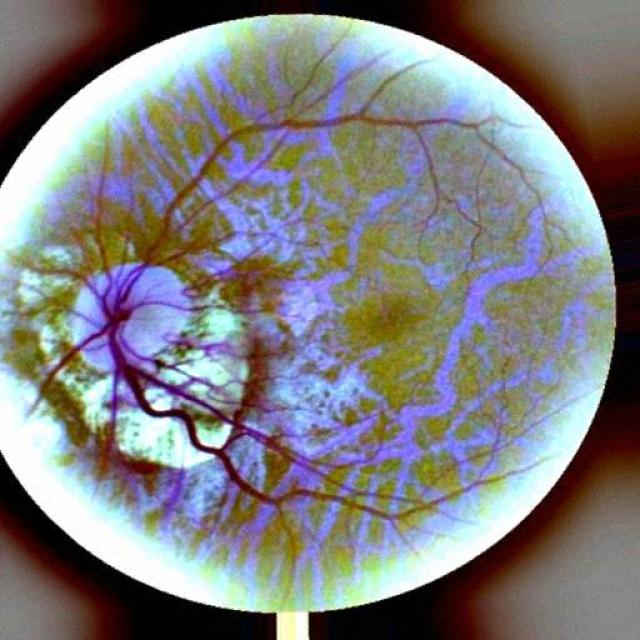Nerves: (106, 326, 431, 523), (116, 113, 384, 326), (138, 368, 329, 472), (26, 328, 115, 417), (16, 265, 106, 325)
Optic Disk: (68, 265, 194, 381)
